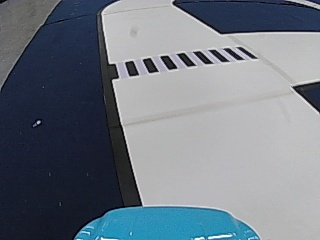CrossWalk: (112, 46, 253, 76)
